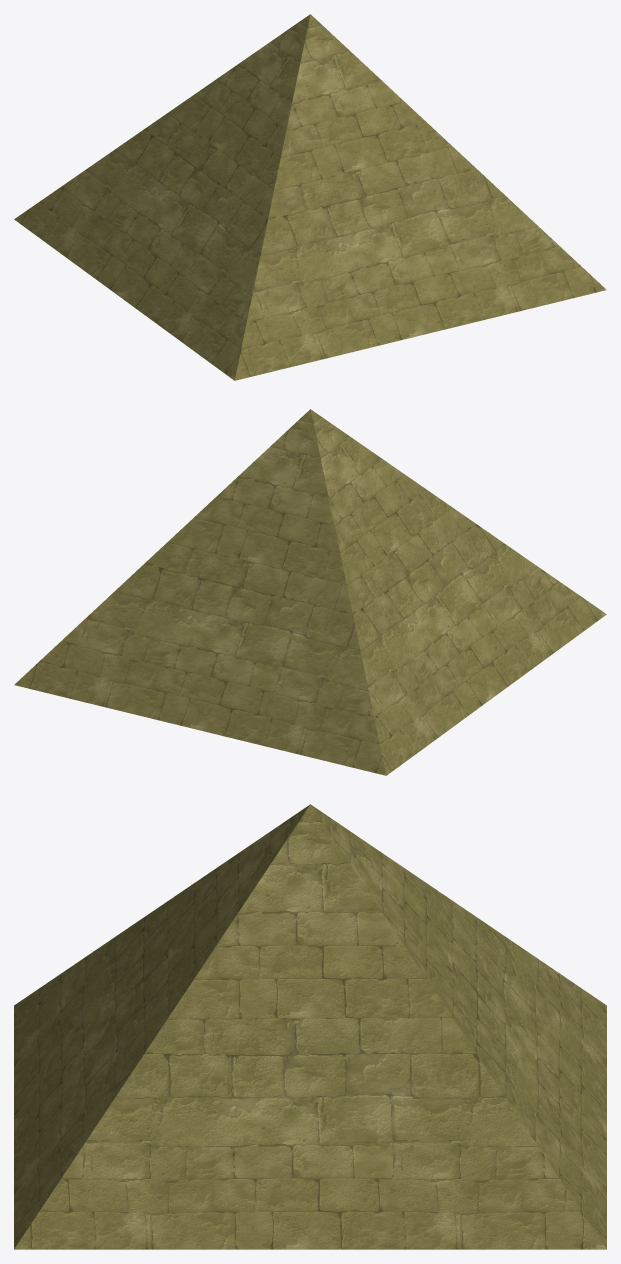
The picture shows the model from 3 angles, top to bottom: view 1: azimuth 30°, elevation 25°; view 2: azimuth 150°, elevation 25°; view 3: azimuth 270°, elevation 25°; orthographic projection. The views are drawn at different scales.
Parts seen in each view (by area): view 1: Pyramid001; view 2: Pyramid001; view 3: Pyramid001.
Boxes of the visible parts, x1=… form: Pyramid001: x1=14, y1=14, x2=606, y2=380; Pyramid001: x1=14, y1=409, x2=606, y2=775; Pyramid001: x1=14, y1=804, x2=606, y2=1249.
Bounding box in the file's own units: 78.91 × 48.74 × 81.
1 material, 1 textured.
